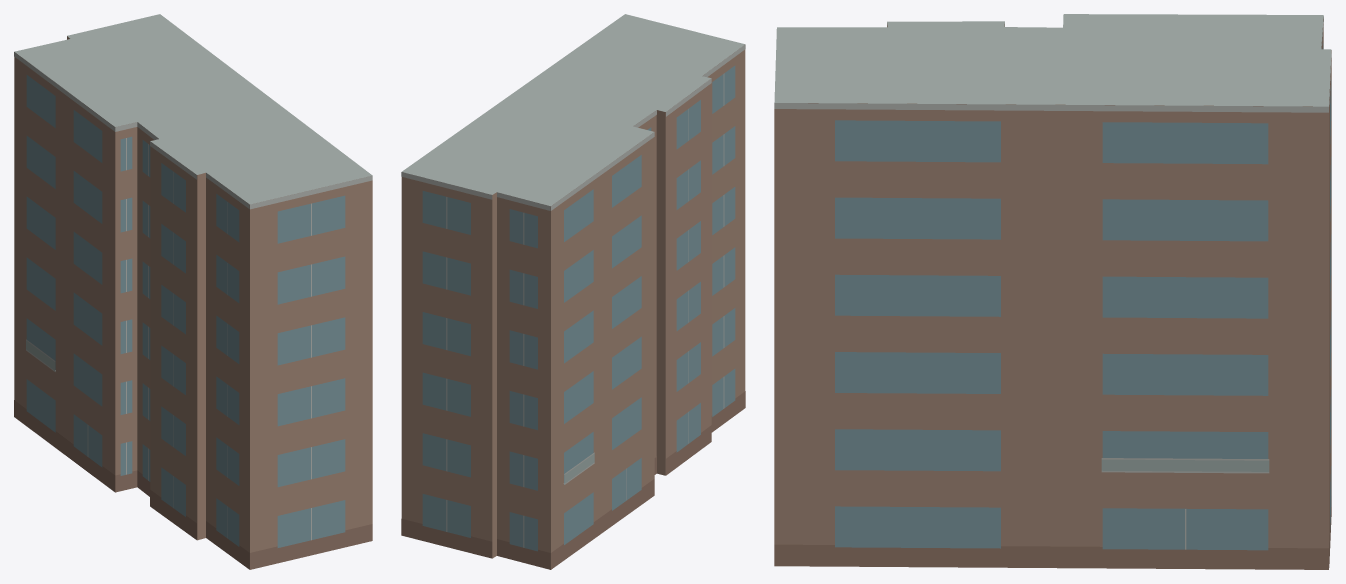
The model's file is survey-upis-32918957.glb.
3 renders of one model, left to right at view 1: azimuth 30°, elevation 25°; view 2: azimuth 150°, elevation 25°; view 3: azimuth 270°, elevation 25°, orthographic. The views are drawn at different scales.
Visible parts, largest first — view 1: survey-upis-32918957.tmp; view 2: survey-upis-32918957.tmp; view 3: survey-upis-32918957.tmp.
Part boxes in pixels (box(x1,y1,x2,y2)): survey-upis-32918957.tmp: box(14, 14, 372, 569); survey-upis-32918957.tmp: box(401, 14, 745, 569); survey-upis-32918957.tmp: box(774, 14, 1331, 569).
Size of the model in its own units: 7.85 by 18.3 by 19.95.
